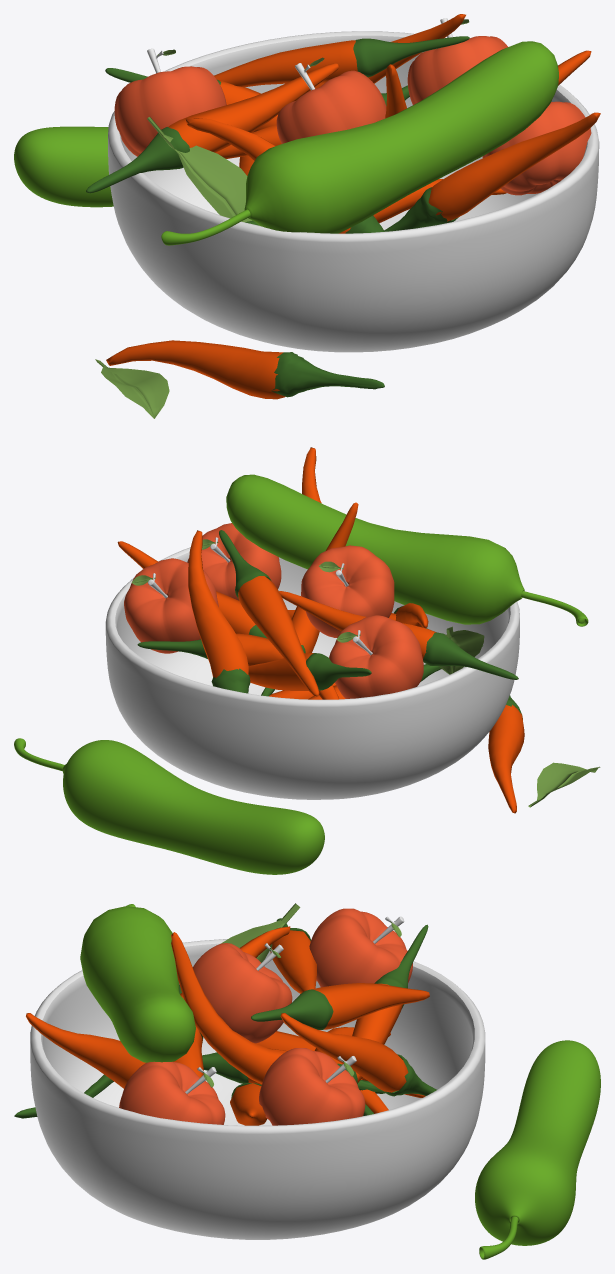
File: pepperCuccumber.fbx
3 renders of one model, top to bottom at view 1: azimuth 30°, elevation 25°; view 2: azimuth 150°, elevation 25°; view 3: azimuth 270°, elevation 25°, orthographic. The views are drawn at different scales.
Parts seen in each view (by area): view 1: Cube, Cube.017, Cube.014, Cube.015, Cube.007, 2 tomato, Cube.013, Cube.006, 2 tomato.003, 2 tomato.002, 2 tomato.001, leave.002 (+8 smaller); view 2: Cube, Cube.015, Cube.017, 2 tomato, 2 tomato.003, 2 tomato.001, Cube.011, Cube.006, Cube.013, 2 tomato.002, Cube.019, Cube.014 (+8 smaller); view 3: Cube, Cube.015, Cube.017, 2 tomato.001, 2 tomato.003, 2 tomato, 2 tomato.002, Cube.006, Cube.004, Cube.011, Cube.007, Cube.019 (+8 smaller).
Boxes of the visible parts, bbox=[...] form: Cube: bbox=[108, 31, 599, 352]; Cube.017: bbox=[244, 41, 558, 233]; Cube.014: bbox=[106, 340, 384, 399]; Cube.015: bbox=[14, 126, 113, 207]; Cube.007: bbox=[384, 112, 600, 231]; 2 tomato: bbox=[114, 48, 226, 156]; Cube.013: bbox=[86, 63, 339, 193]; Cube.006: bbox=[214, 36, 469, 87]; 2 tomato.003: bbox=[276, 57, 386, 143]; 2 tomato.002: bbox=[482, 101, 591, 195]; 2 tomato.001: bbox=[407, 18, 507, 104]; leave.002: bbox=[147, 117, 252, 222]; Cube: bbox=[105, 547, 519, 799]; Cube.015: bbox=[62, 740, 324, 874]; Cube.017: bbox=[226, 474, 524, 624]; 2 tomato: bbox=[329, 615, 423, 698]; 2 tomato.003: bbox=[301, 545, 394, 637]; 2 tomato.001: bbox=[124, 558, 218, 653]; Cube.011: bbox=[188, 530, 250, 693]; Cube.006: bbox=[219, 530, 319, 696]; Cube.013: bbox=[279, 591, 518, 679]; 2 tomato.002: bbox=[187, 523, 281, 600]; Cube.019: bbox=[248, 653, 371, 690]; Cube.014: bbox=[488, 695, 524, 813]; Cube: bbox=[30, 939, 485, 1239]; Cube.015: bbox=[475, 1040, 600, 1245]; Cube.017: bbox=[80, 906, 195, 1062]; 2 tomato.001: bbox=[259, 1048, 365, 1125]; 2 tomato.003: bbox=[193, 943, 292, 1043]; 2 tomato: bbox=[309, 908, 412, 987]; 2 tomato.002: bbox=[119, 1061, 225, 1124]; Cube.006: bbox=[251, 983, 429, 1029]; Cube.004: bbox=[171, 932, 385, 1093]; Cube.011: bbox=[280, 1013, 436, 1096]; Cube.007: bbox=[26, 1013, 145, 1088]; Cube.019: bbox=[352, 924, 428, 1082].
Size of what is drawn, in the model's own units: 230 by 117 by 236.
